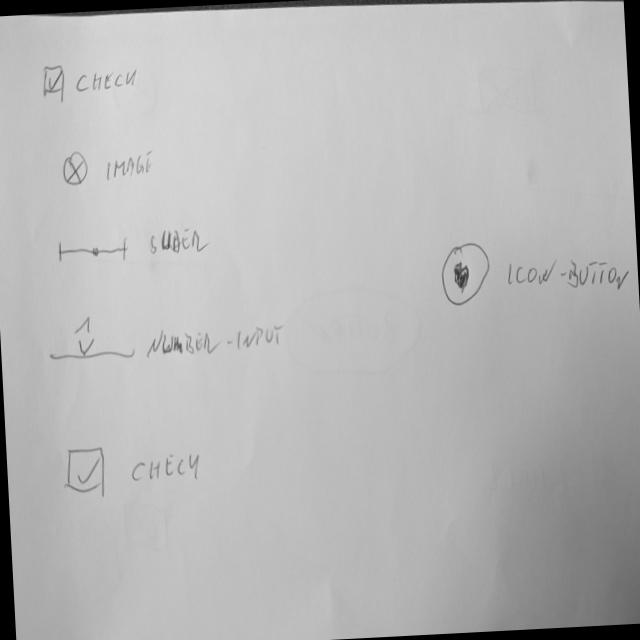checkbox: (62, 438, 204, 496), (41, 59, 140, 100)
icon-button: (439, 240, 494, 308)
image: (60, 147, 90, 189)
slider: (54, 234, 134, 266)
